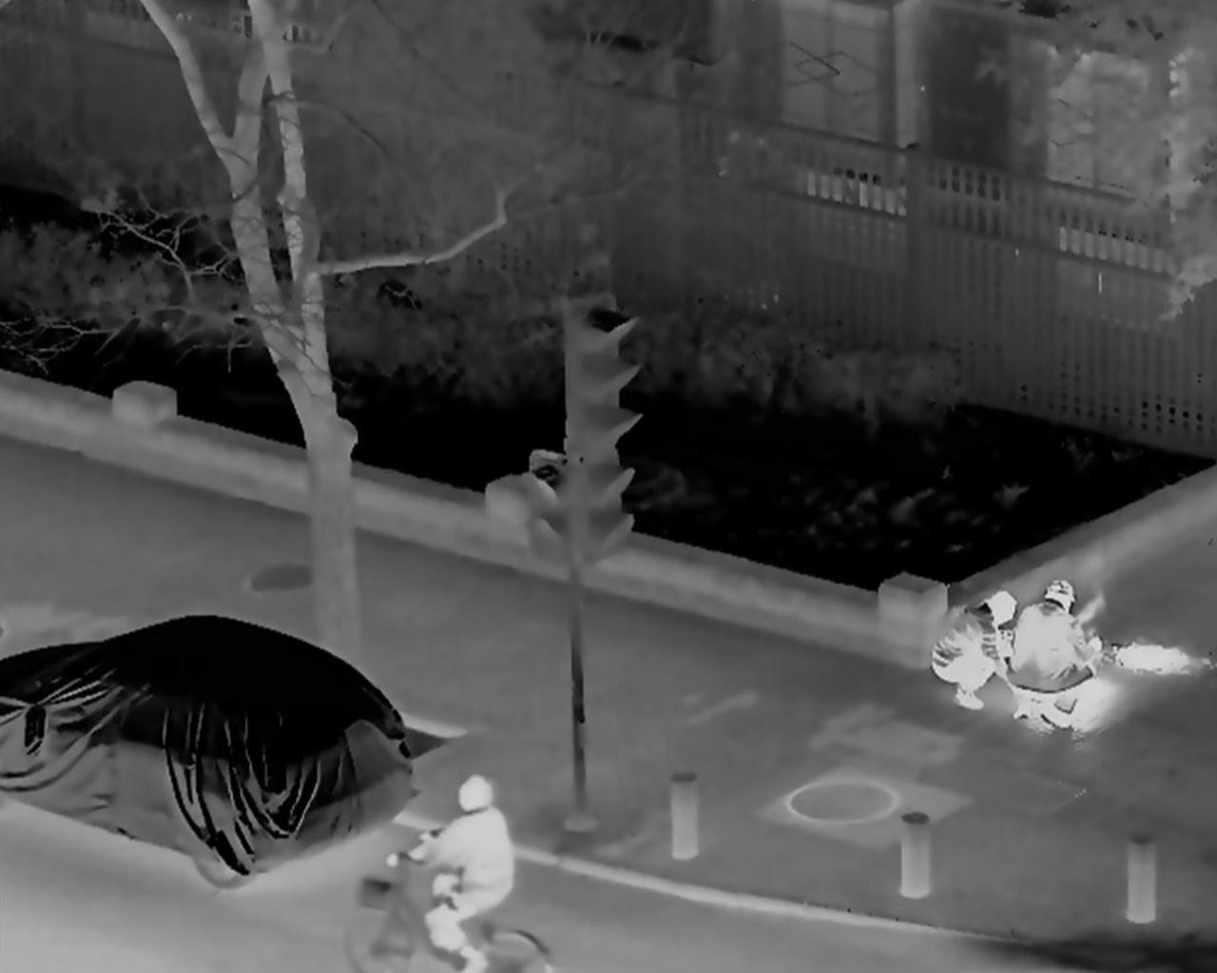person: (399, 776, 519, 969), (1011, 583, 1099, 735), (932, 593, 1019, 719)
